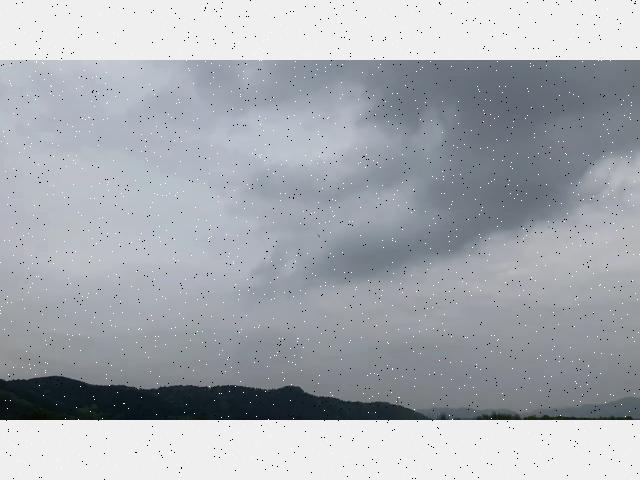Anti-Drone: (312, 227, 328, 241)
